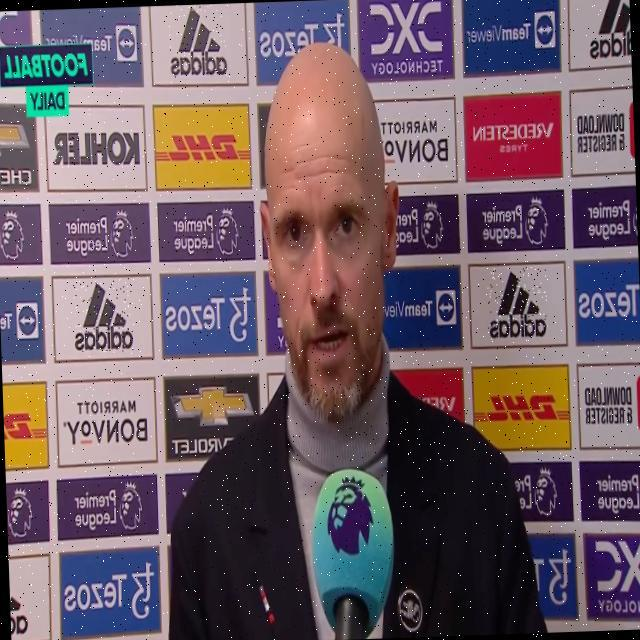Adidas: (72, 278, 133, 354), (486, 265, 548, 339), (168, 3, 227, 79)
Chevrolet: (168, 381, 253, 457)
Kohler: (54, 126, 142, 170)
TeamViewer: (465, 14, 555, 50)
